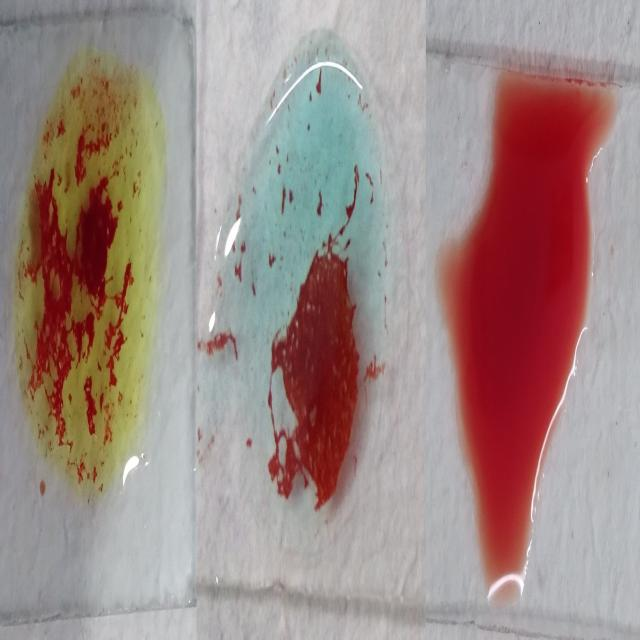A: (212, 48, 391, 540)
B: (12, 45, 169, 508)
